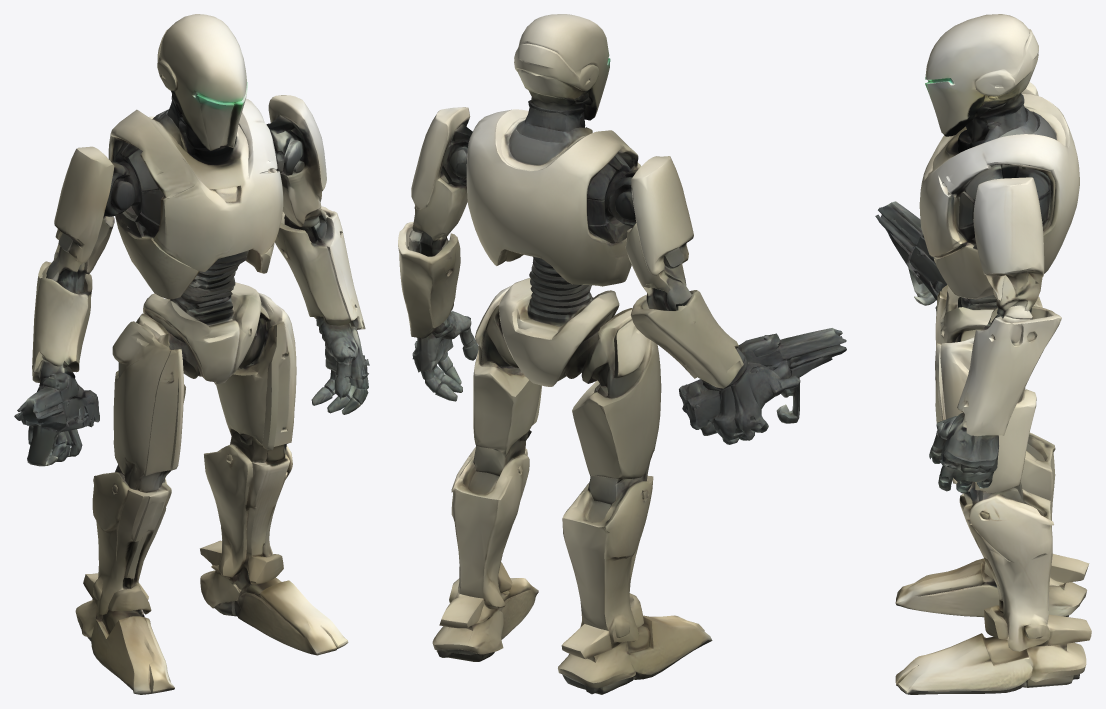
The model's file is droid_assassin_a.glb.
3 renders of one model, left to right at view 1: azimuth 30°, elevation 25°; view 2: azimuth 150°, elevation 25°; view 3: azimuth 270°, elevation 25°, orthographic.
Visible parts, largest first — view 1: model; view 2: model; view 3: model.
Part boxes in pixels (box(x1,y1,x2,y2)): model: box(14, 14, 369, 694); model: box(398, 14, 846, 694); model: box(875, 14, 1091, 694).
Size of the model in its own units: 1.24 by 1.9 by 0.5932.
Materials: 1 (1 with a texture image).
